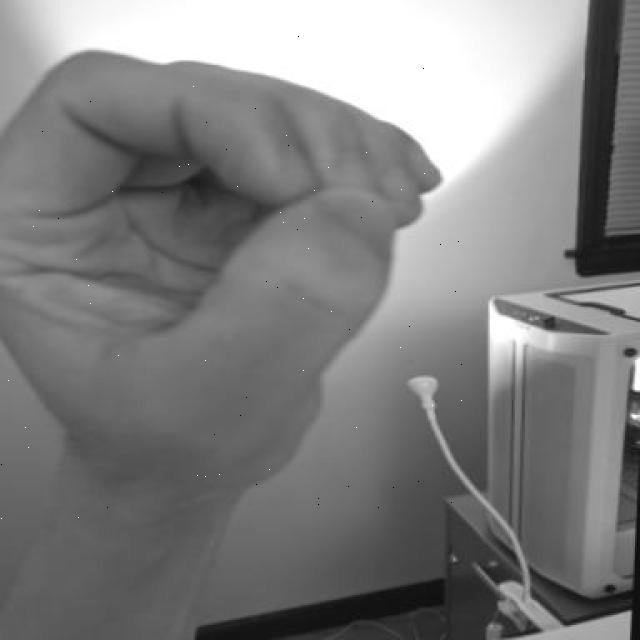O: (0, 36, 462, 522)
